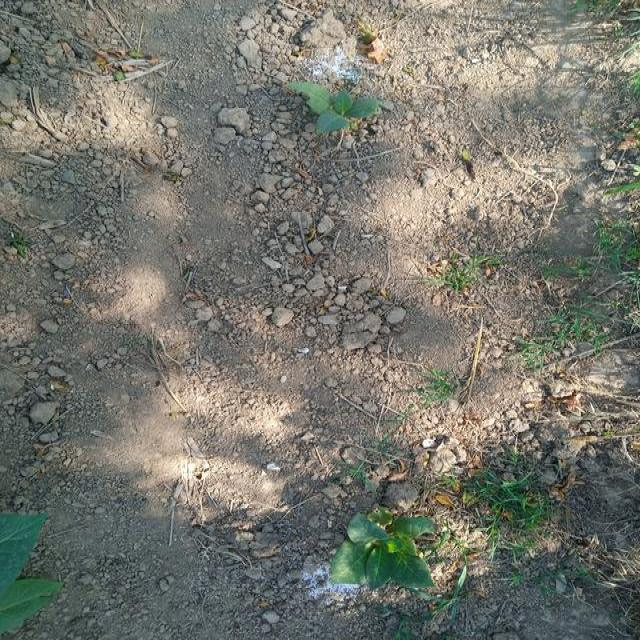crop: (334, 515, 432, 603), (0, 488, 53, 632), (292, 67, 376, 146)
